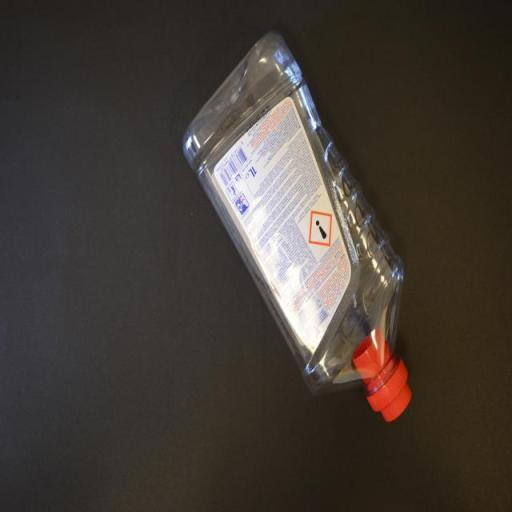plastic: (182, 30, 413, 428)
